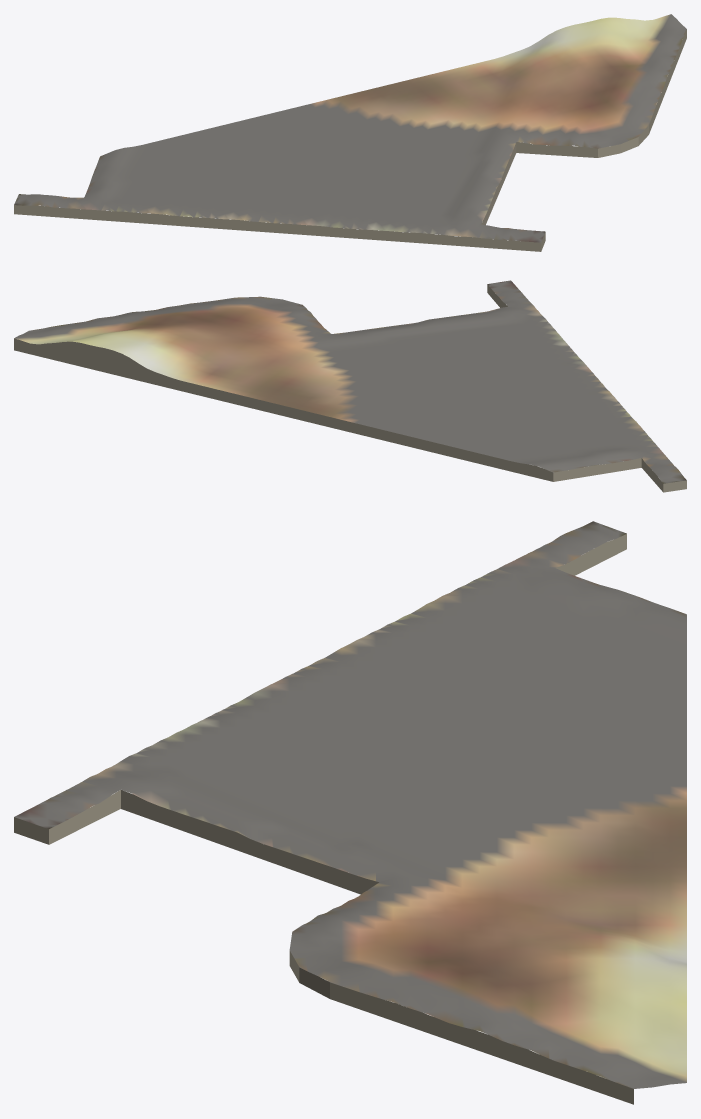
The model's file is terrain.glb.
The picture shows the model from 3 angles, top to bottom: view 1: azimuth 30°, elevation 25°; view 2: azimuth 150°, elevation 25°; view 3: azimuth 270°, elevation 25°; orthographic projection. The views are drawn at different scales.
Visible parts, largest first — view 1: T_W5_N7_terrain; view 2: T_W5_N7_terrain; view 3: T_W5_N7_terrain.
Part boxes in pixels (bbox=[...]): T_W5_N7_terrain: bbox=[14, 14, 686, 251]; T_W5_N7_terrain: bbox=[14, 280, 686, 492]; T_W5_N7_terrain: bbox=[14, 521, 686, 1104].
Size of the model in its own units: 388 by 14 by 195.
